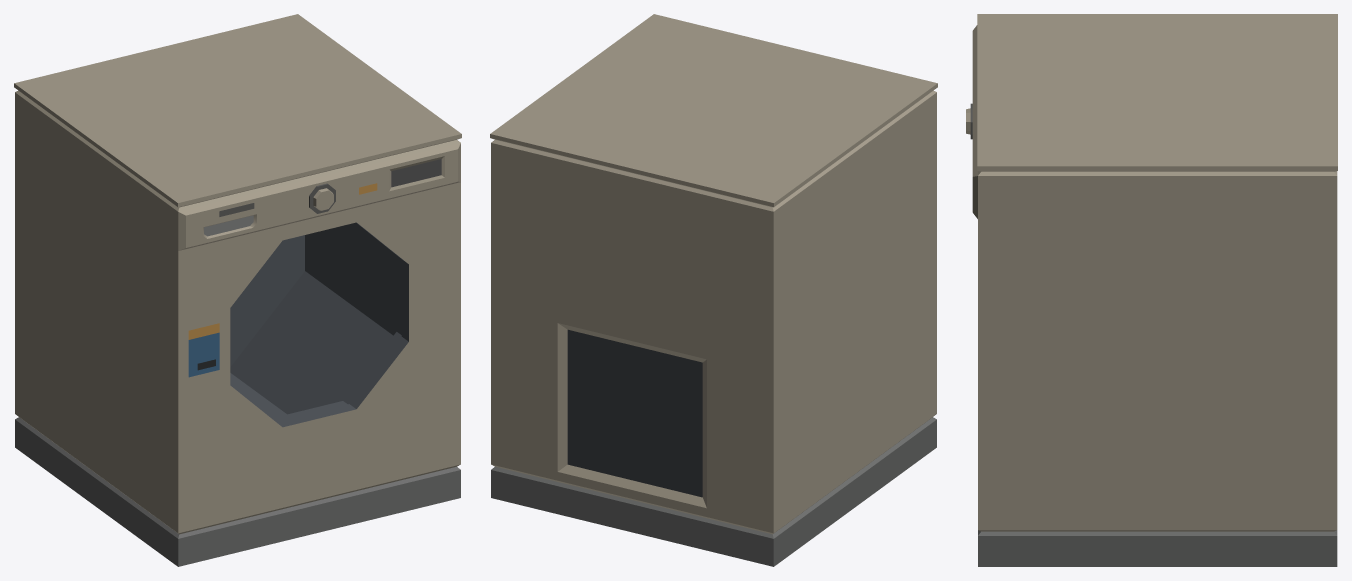
Rendered from SM_Prop_Laundry_Washer_01.glb.
3 renders of one model, left to right at view 1: azimuth 30°, elevation 25°; view 2: azimuth 150°, elevation 25°; view 3: azimuth 270°, elevation 25°, orthographic. The views are drawn at different scales.
Parts seen in each view (by area): view 1: SM_Prop_Laundry_Washer_01; view 2: SM_Prop_Laundry_Washer_01; view 3: SM_Prop_Laundry_Washer_01.
Part boxes in pixels (<box>): SM_Prop_Laundry_Washer_01: <box>14,14,461,566</box>; SM_Prop_Laundry_Washer_01: <box>490,14,937,566</box>; SM_Prop_Laundry_Washer_01: <box>966,14,1337,566</box>.
Size of the model in its own units: 1 by 1.23 by 1.03.
Materials: 1 (1 with a texture image).
